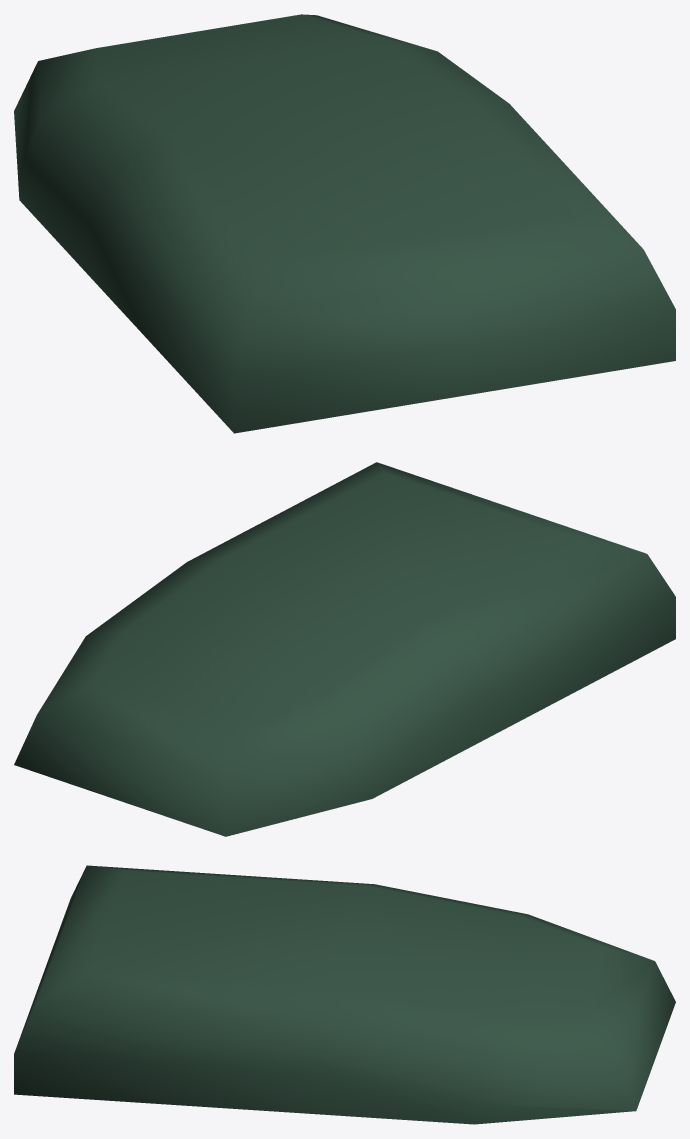
Rendered from mouse.glb.
3 renders of one model, top to bottom at view 1: azimuth 30°, elevation 25°; view 2: azimuth 150°, elevation 25°; view 3: azimuth 270°, elevation 25°, orthographic. The views are drawn at different scales.
Parts seen in each view (by area): view 1: Plane.001; view 2: Plane.001; view 3: Plane.001.
Boxes of the visible parts, <box> form: Plane.001: <box>14,14,675,433</box>; Plane.001: <box>14,462,675,836</box>; Plane.001: <box>14,865,675,1124</box>.
Bounding box in the file's own units: 0.1782 × 0.045 × 0.2686.
Materials: 1 (1 with a texture image).
